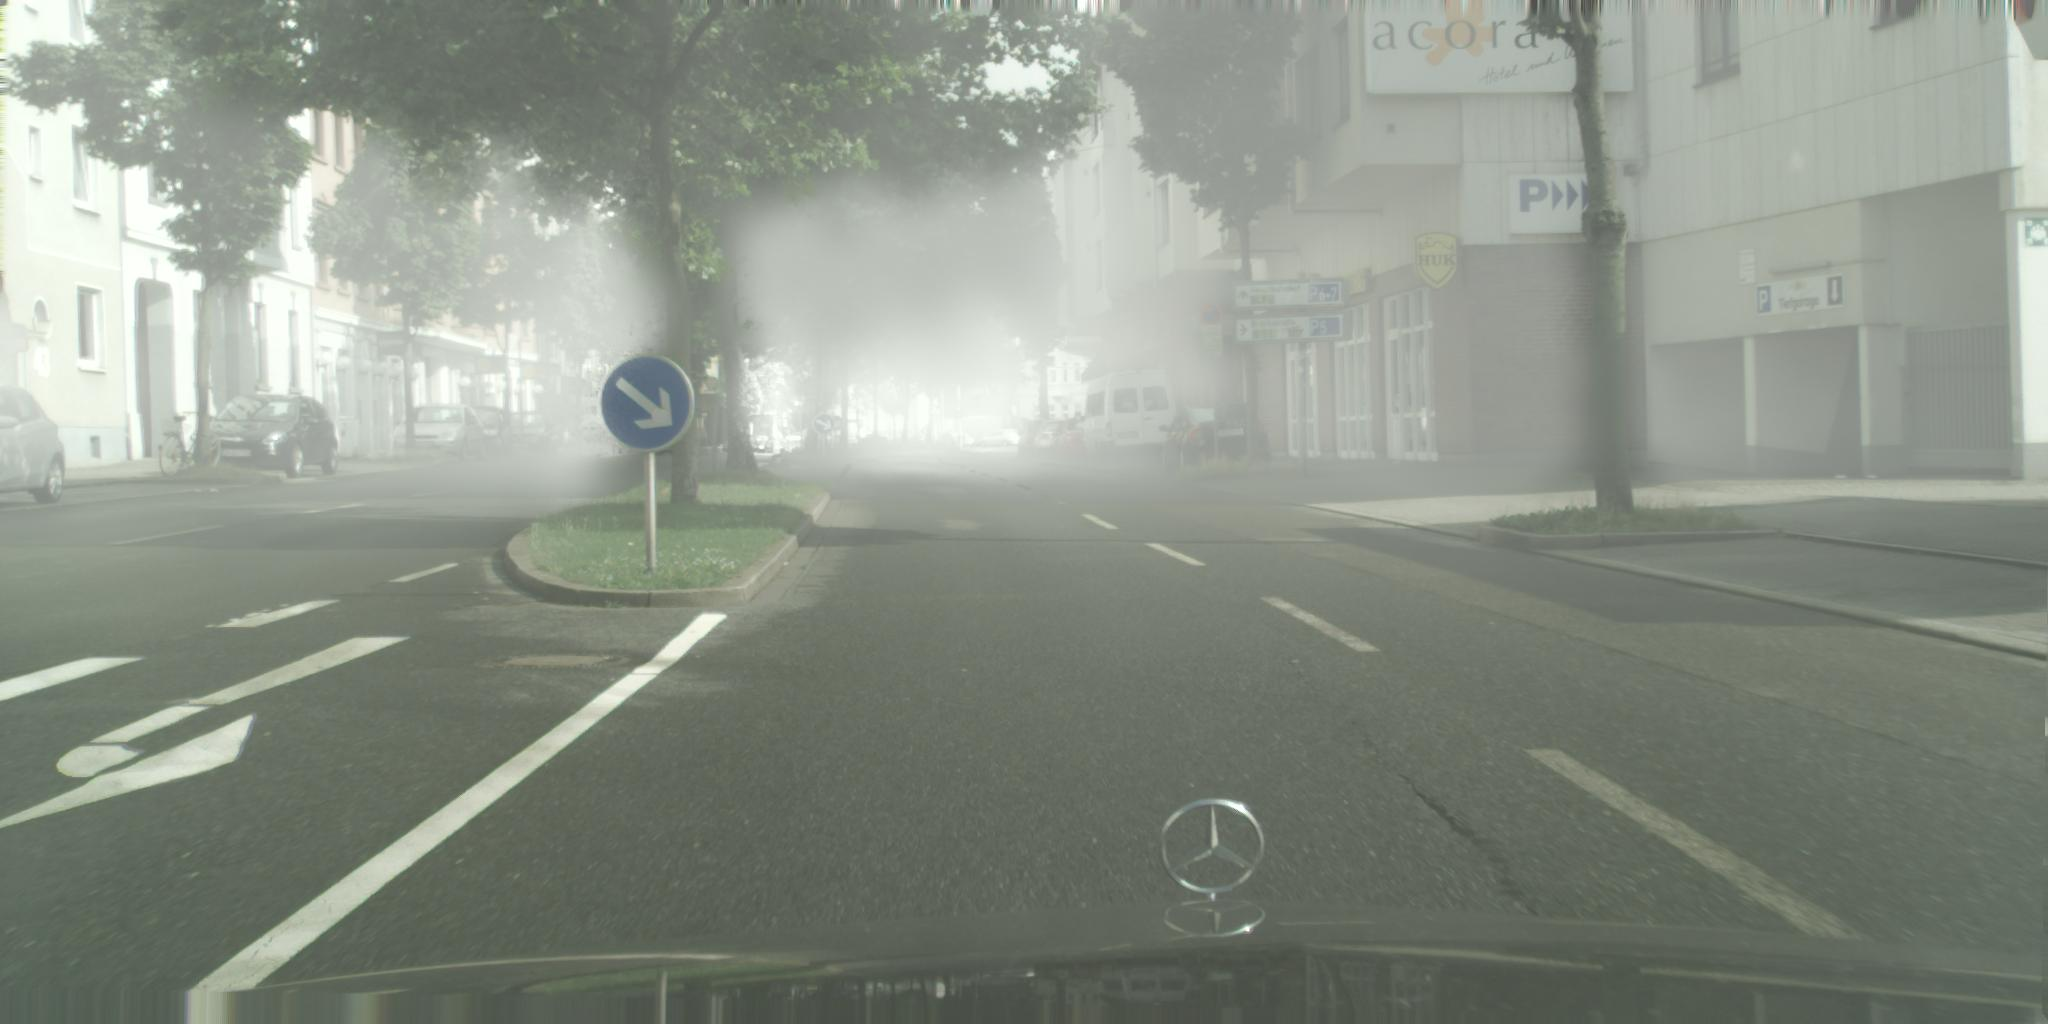bicycle: (159, 413, 222, 478)
car: (206, 394, 342, 479), (1076, 370, 1182, 468), (1159, 402, 1273, 477), (1, 383, 65, 505), (392, 404, 487, 462), (455, 408, 513, 462), (499, 411, 559, 461), (566, 417, 630, 456), (1032, 421, 1068, 462), (1016, 418, 1053, 458), (980, 430, 1023, 448), (936, 432, 977, 451), (859, 435, 889, 448), (844, 436, 859, 448)
